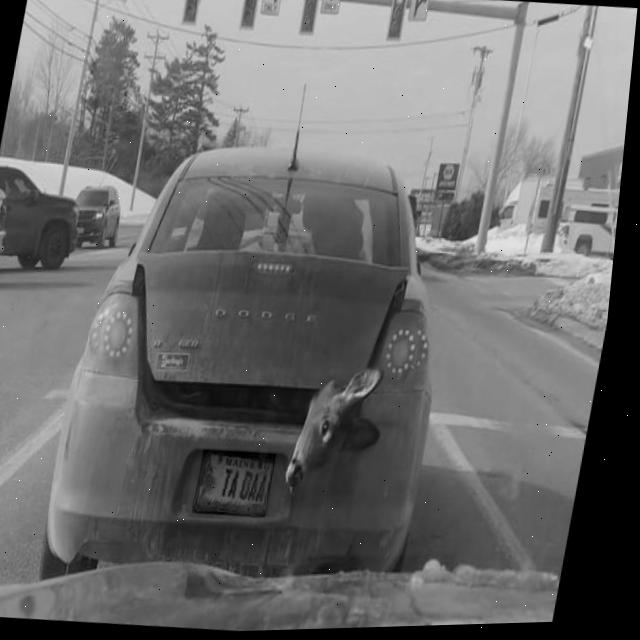LicensePlate: (203, 451, 284, 519)
